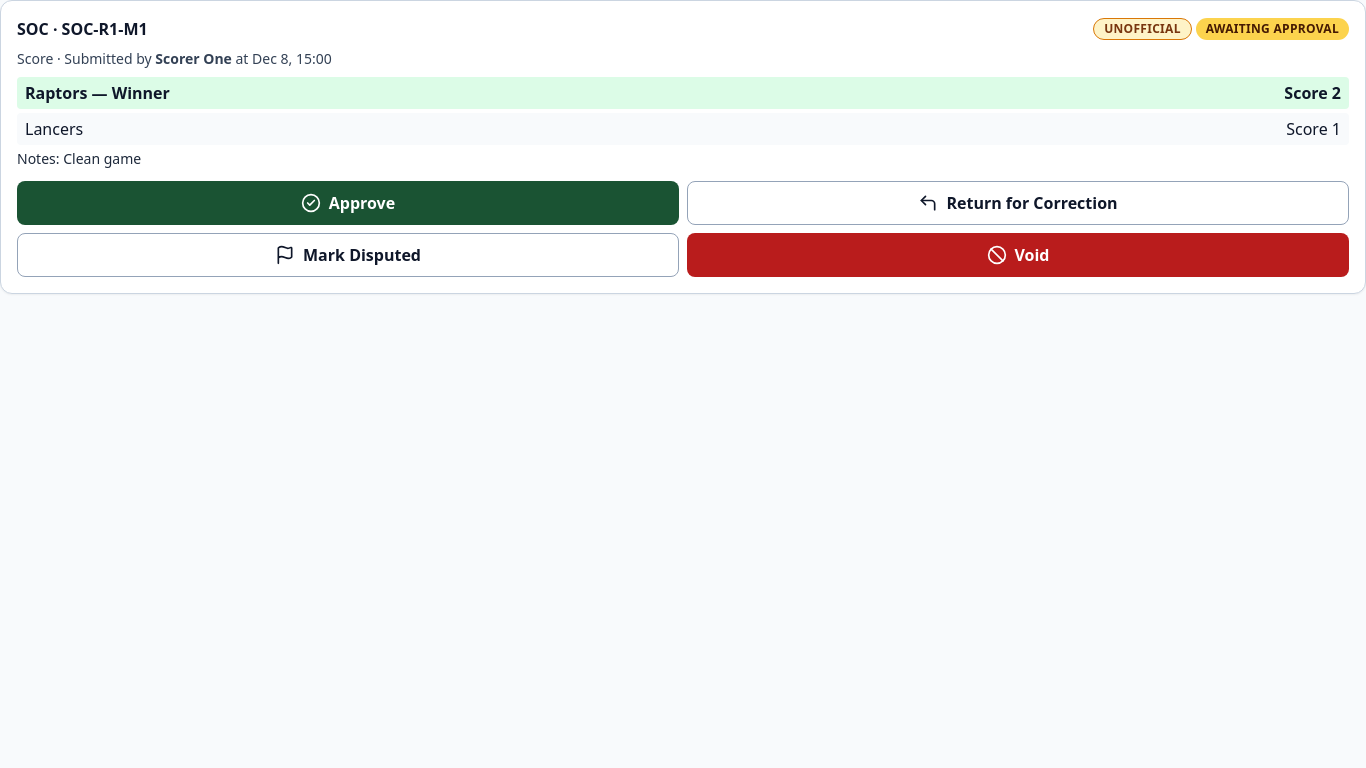
ResultValidationCard › approves after confirmation (no reason needed)
Later steps or results of the test are not shown.
Click the button "Approve": (348, 203) [17,181,679,225]
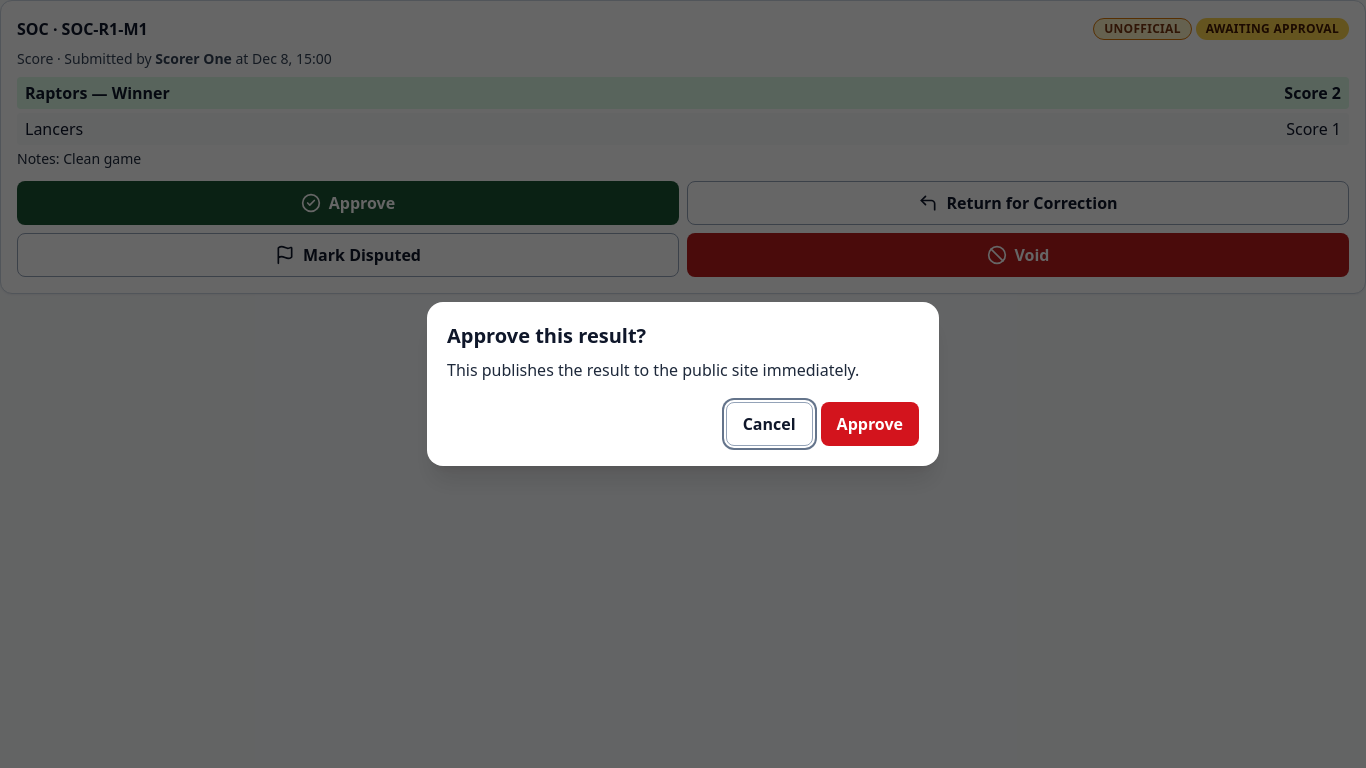
Expected: the text "This publishes the result to the public site immediately." is shown, [447,358,919,382]
